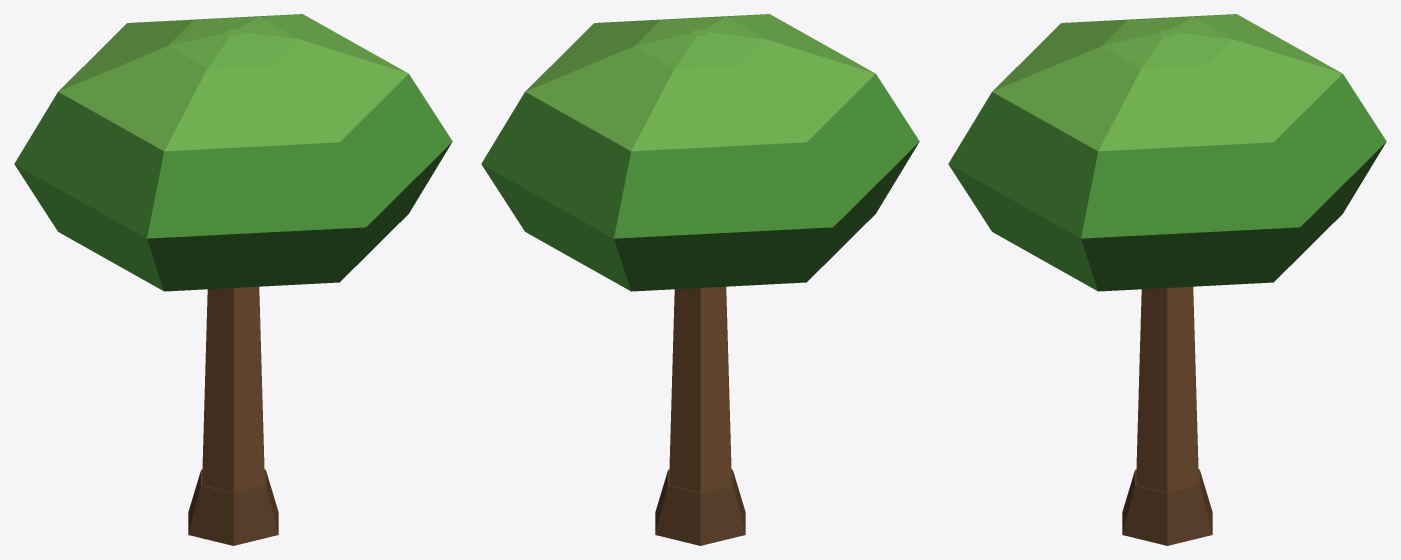
The model's file is apple-2.glb.
3 views of the same model, side by side, from view 1: azimuth 30°, elevation 25°; view 2: azimuth 150°, elevation 25°; view 3: azimuth 270°, elevation 25° (orthographic).
Visible parts, largest first — view 1: apple-2; view 2: apple-2; view 3: apple-2.
Part boxes in pixels (box(x1,y1,x2,y2)): apple-2: box(14, 14, 452, 545); apple-2: box(481, 14, 919, 545); apple-2: box(948, 14, 1386, 545).
Size of the model in its own units: 0.2392 by 0.319 by 0.2581.
Materials: 1 (1 with a texture image).
